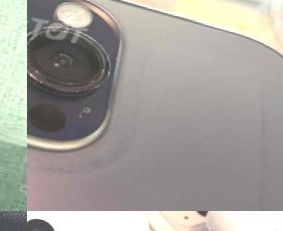scratch: (200, 41, 283, 211), (27, 110, 150, 198)
